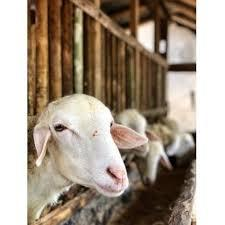Sheep: (28, 90, 146, 204)
